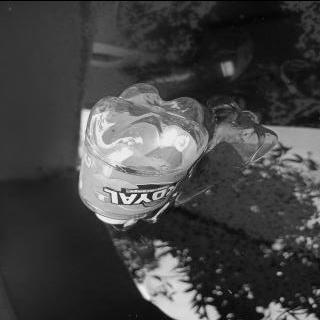bottle: (73, 80, 211, 226)
